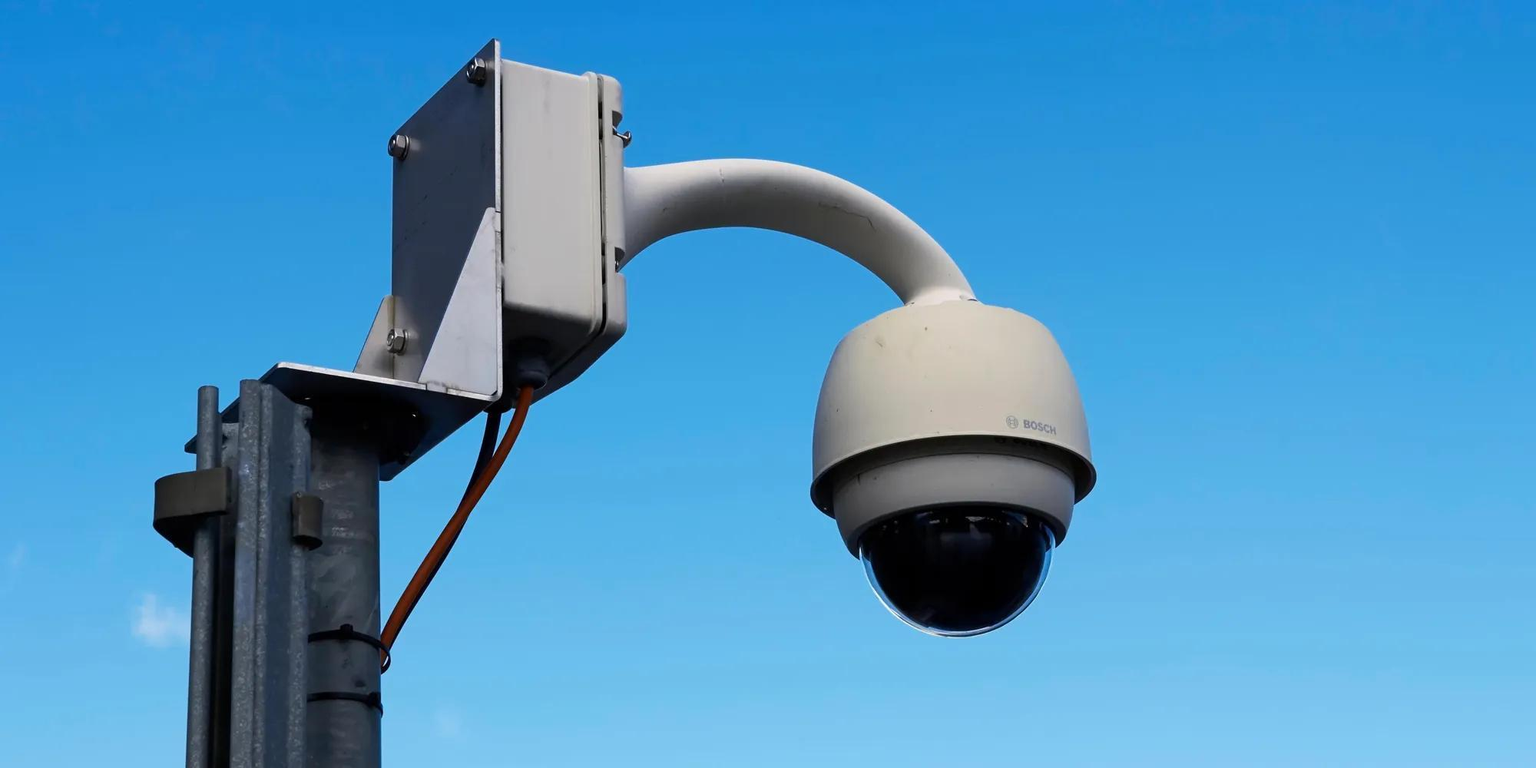360-Cam: (809, 285, 1104, 650)
